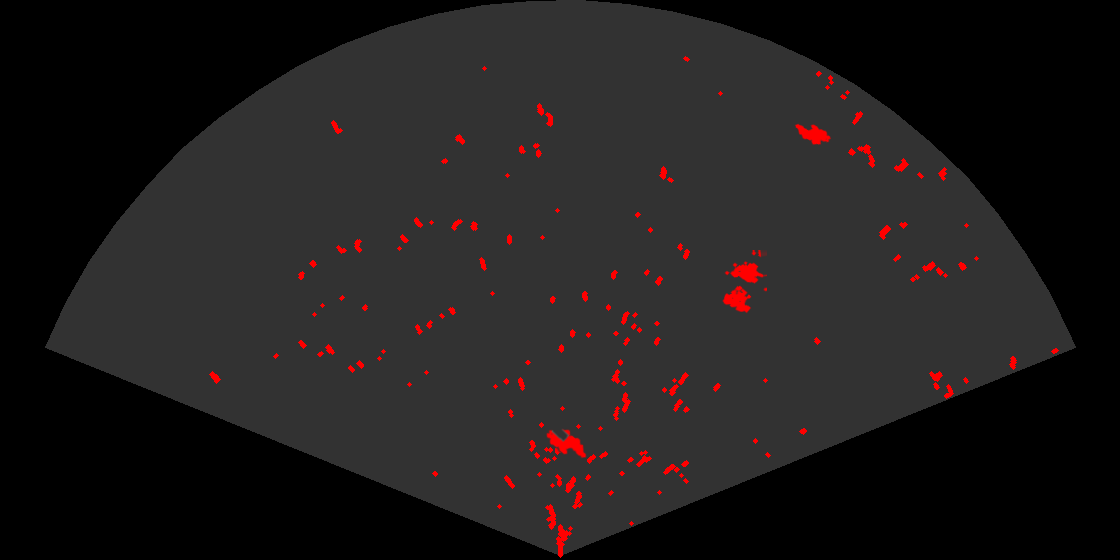AUV: (545, 427, 588, 460), (793, 122, 833, 147)
cage: (721, 250, 767, 315)
